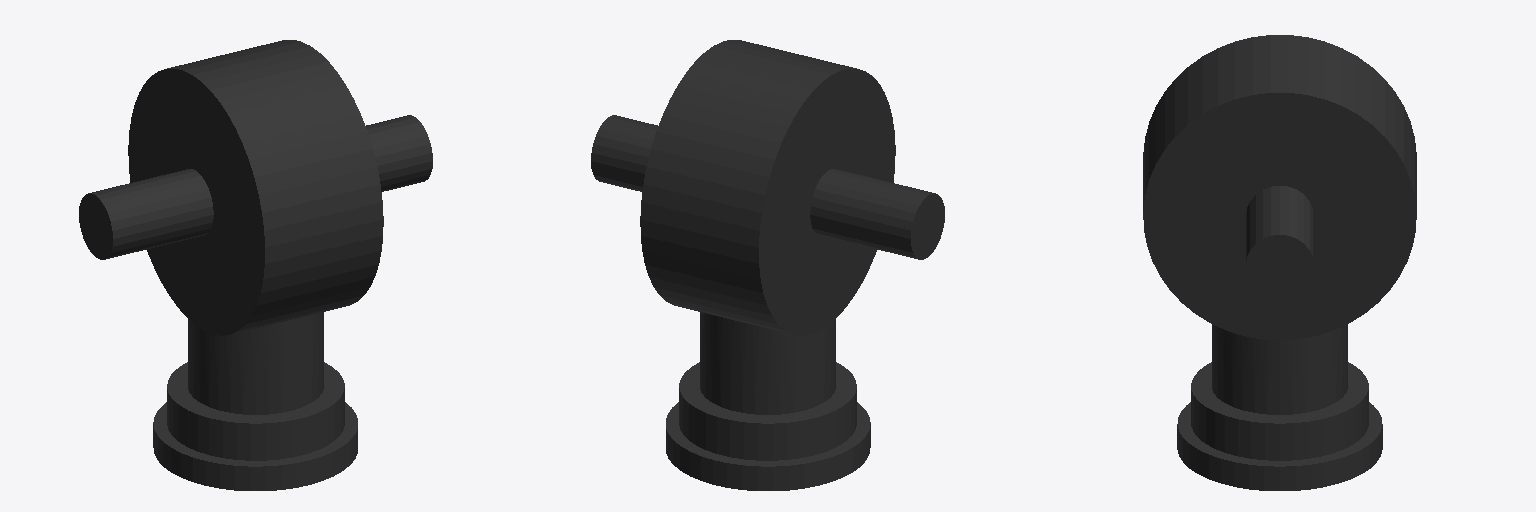
3 renders of one model, left to right at view 1: azimuth 30°, elevation 25°; view 2: azimuth 150°, elevation 25°; view 3: azimuth 270°, elevation 25°, orthographic.
Visible parts, largest first — view 1: Bryła1:5; view 2: Bryła1:5; view 3: Bryła1:5.
Boxes of the visible parts, box(x1,y1,x2,y2) form: Bryła1:5: box(79, 40, 432, 490); Bryła1:5: box(591, 40, 944, 490); Bryła1:5: box(1143, 35, 1416, 490).
Size of the model in its own units: 68.58 by 78.68 by 50.77.